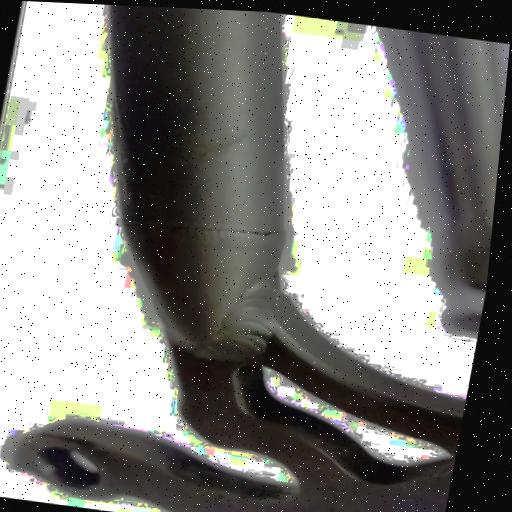crack: (116, 202, 295, 259)
